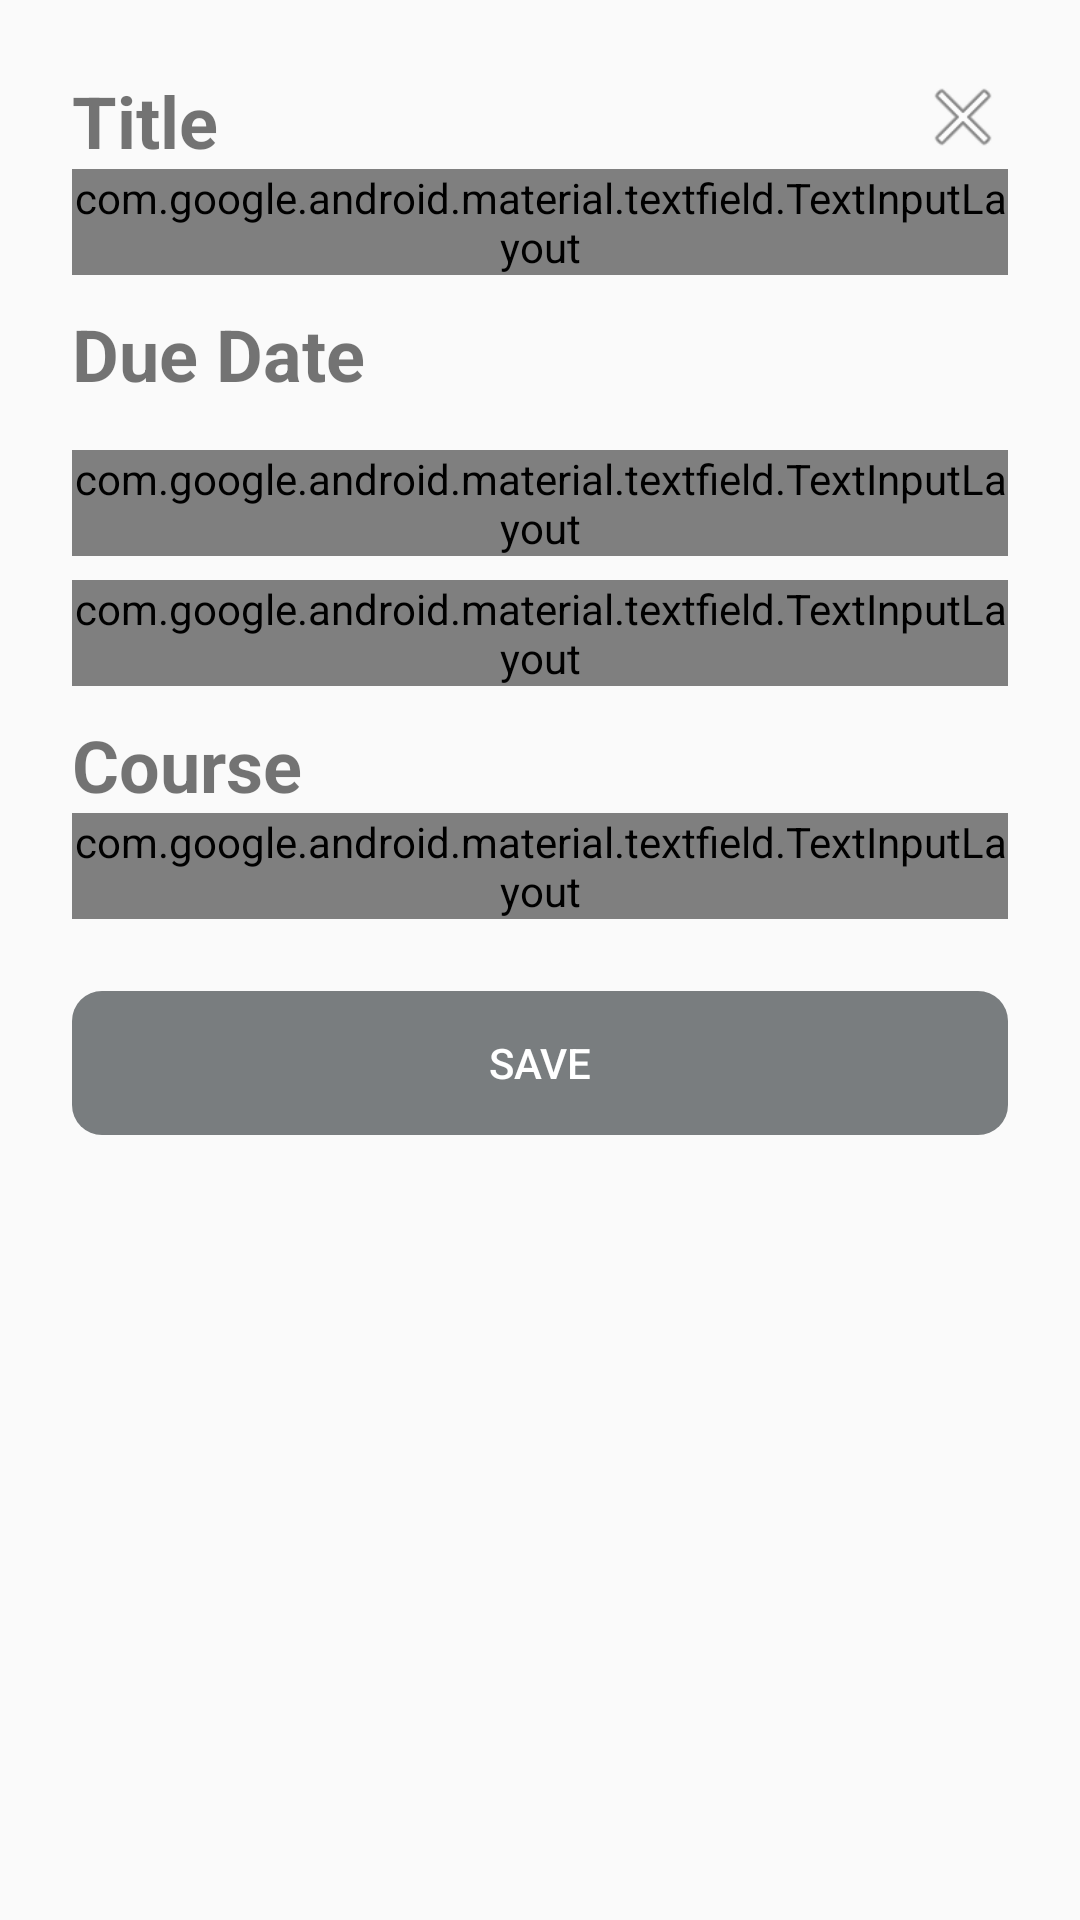

Where icons sit on this 1080x1920 app screen, as box=[x1, y1, x2, y2]:
close clear cancel: box=[935, 89, 991, 145]
